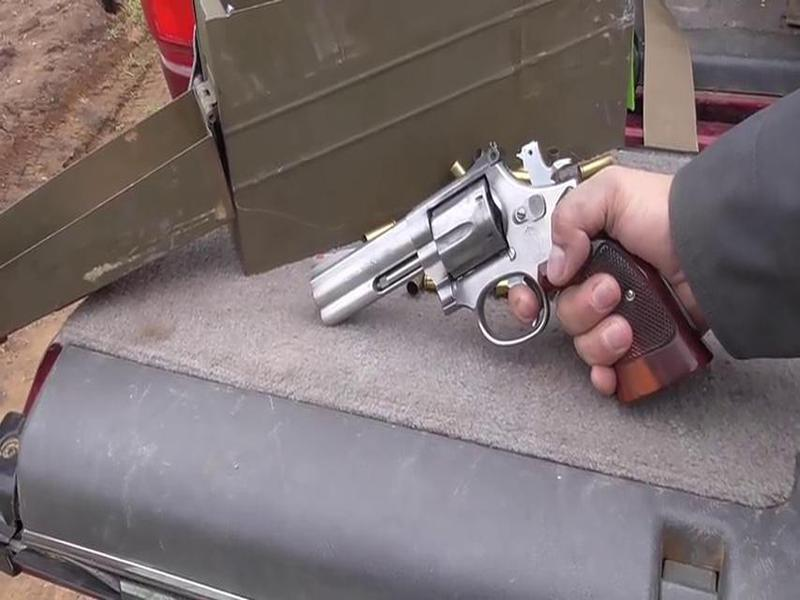Revolver: (299, 139, 638, 401)
